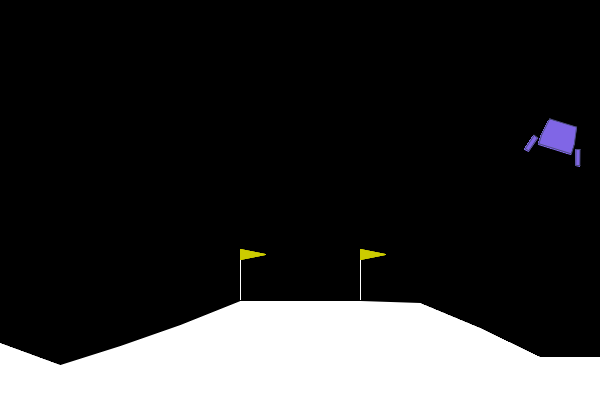lander: (523, 113, 592, 169)
